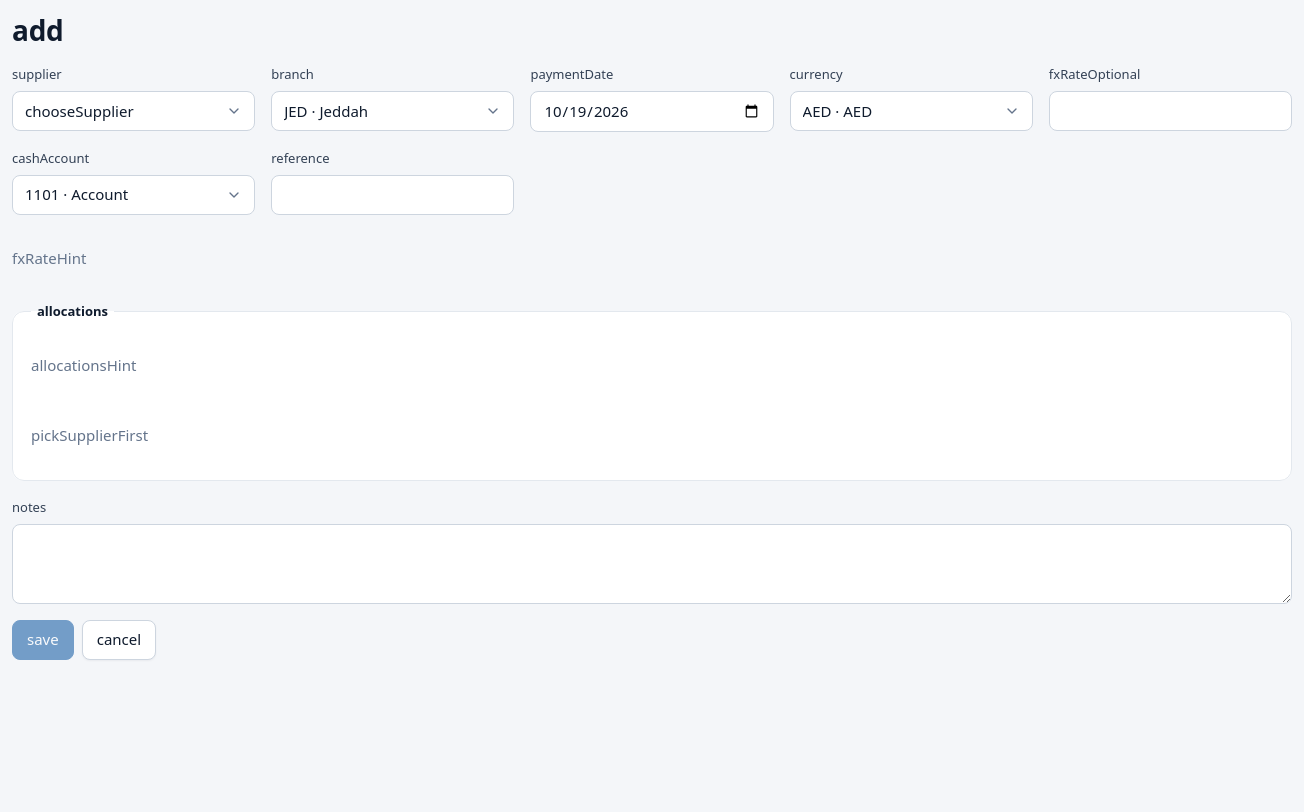
it: expense and supplier payment (functional review C4, C9) › starts a supplier payment in the branch's currency and today
Check: the dropdown labelled "currency" shows "AED · AED", box [790,91,1033,131]
Check: the date field labelled "paymentDate" holds "2026-10-19", box [530,91,774,132]
Step 1. Select "JED · Jeddah" in the dropdown labelled "branch" → (393, 111), box [271,91,514,131]
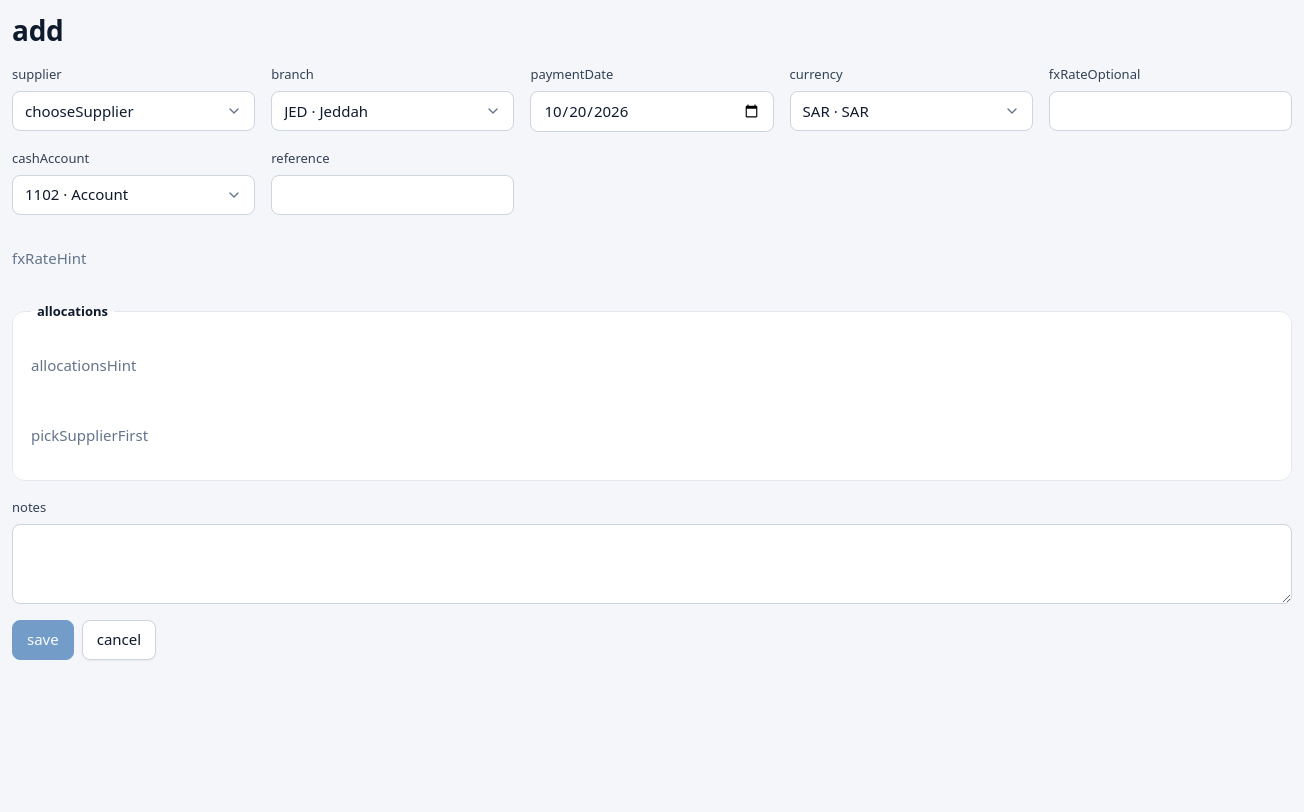
Check: the dropdown labelled "currency" shows "SAR · SAR", box [790,91,1033,131]
Check: the date field labelled "paymentDate" holds "2026-10-20", box [530,91,774,132]
